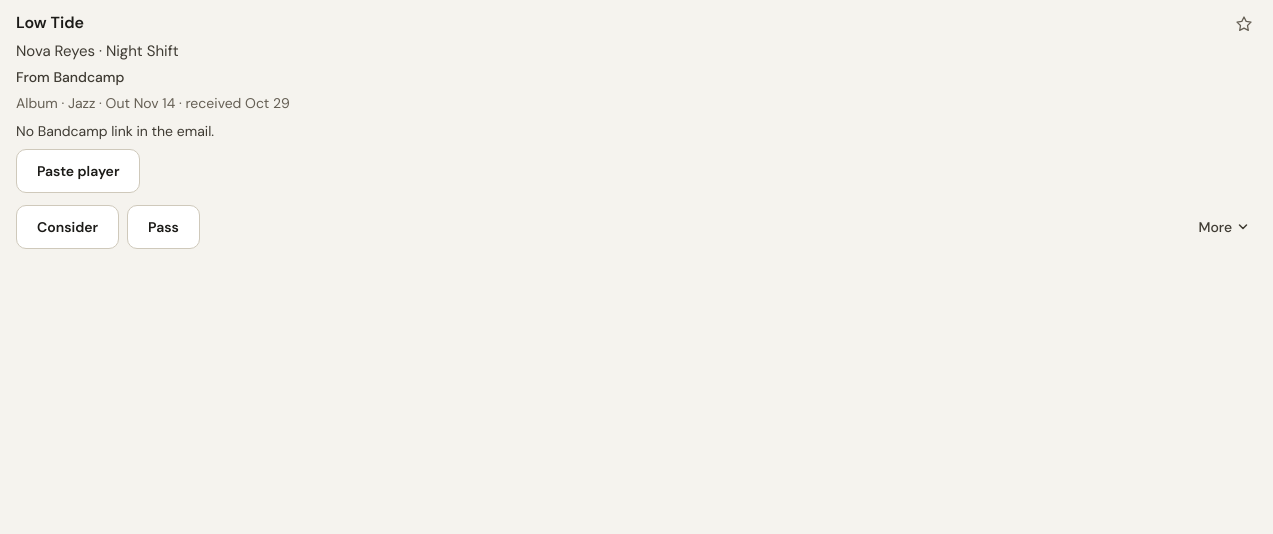
Test case: links (brief C) › co-signs: the cleaned links in More, domain in mono, new tab, noopener noreferrer nofollow, and the note
This screenshot has width=1273, height=534.
Click the button "More" at (1223, 227), box x1=1190 y1=205 x2=1256 y2=249
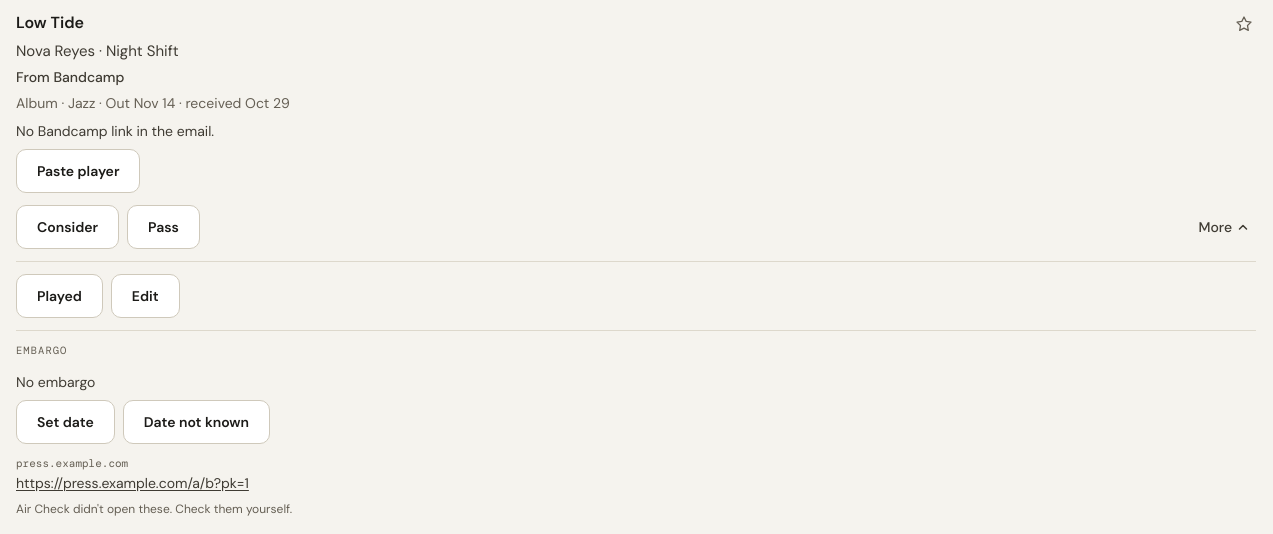
Expected: the text "Air Check didn't open these. Check them yourself." is shown, x1=16 y1=501 x2=292 y2=517
Expected: the number of links is 1, x1=16 y1=473 x2=249 y2=493
